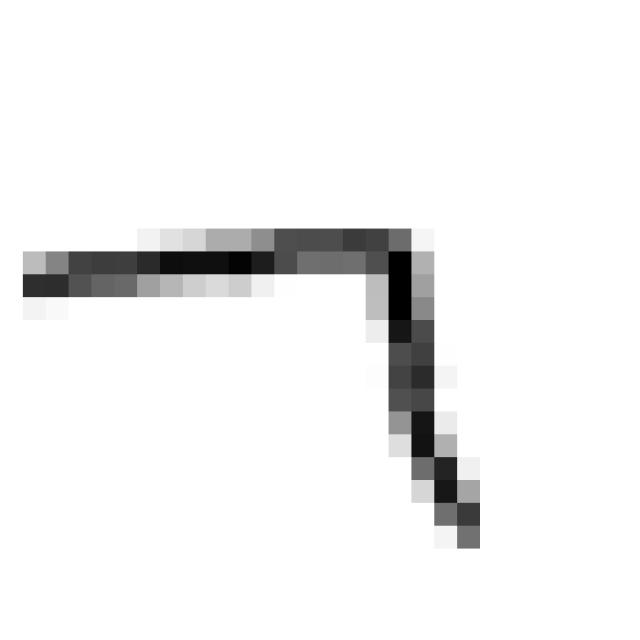6 -six-: (9, 210, 498, 571)
